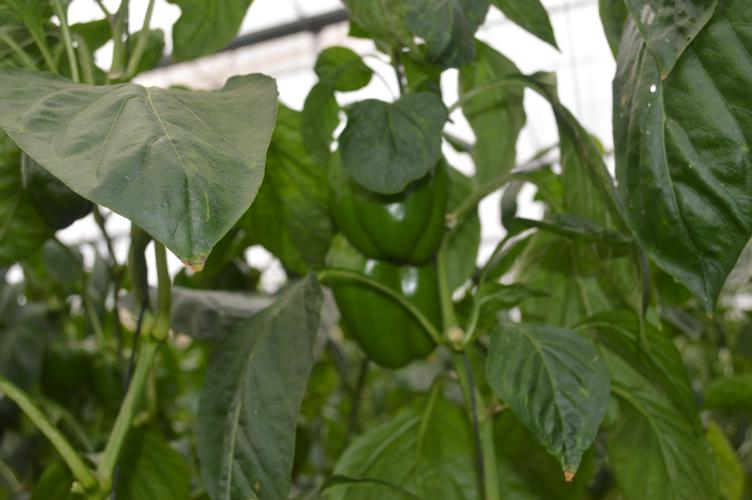BellPepper: (324, 147, 449, 260), (323, 251, 439, 371), (18, 156, 95, 230)
